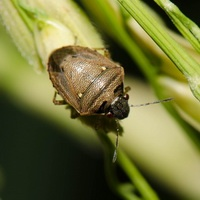insect: (47, 44, 137, 118)
